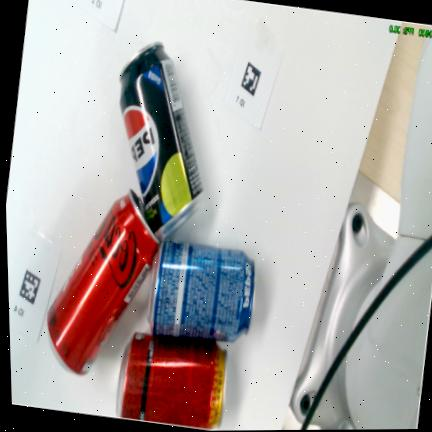can_coke_decaf: (116, 332, 227, 429)
can_coke_zero: (47, 189, 158, 374)
can_pepsi: (148, 240, 254, 341)
can_pepsi_zero: (119, 42, 203, 239)
